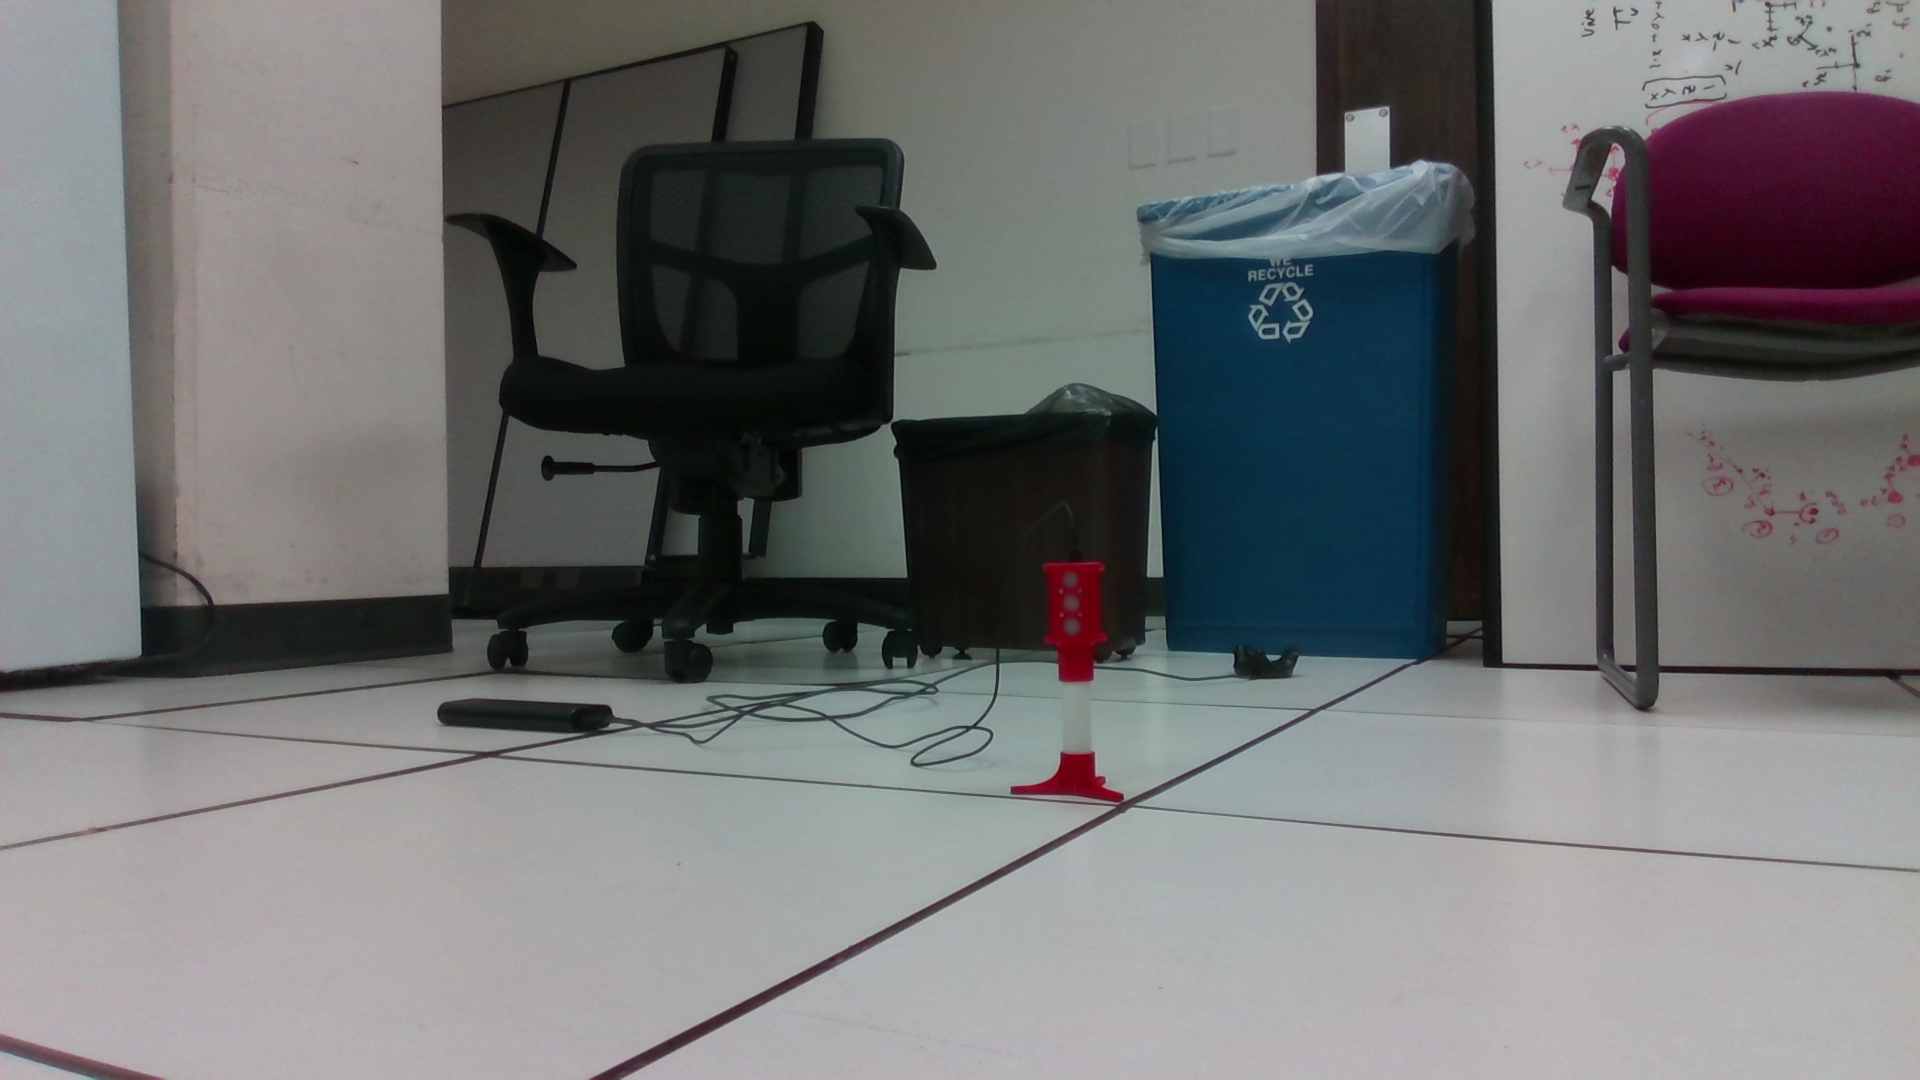stoplight: (1044, 560, 1110, 686)
